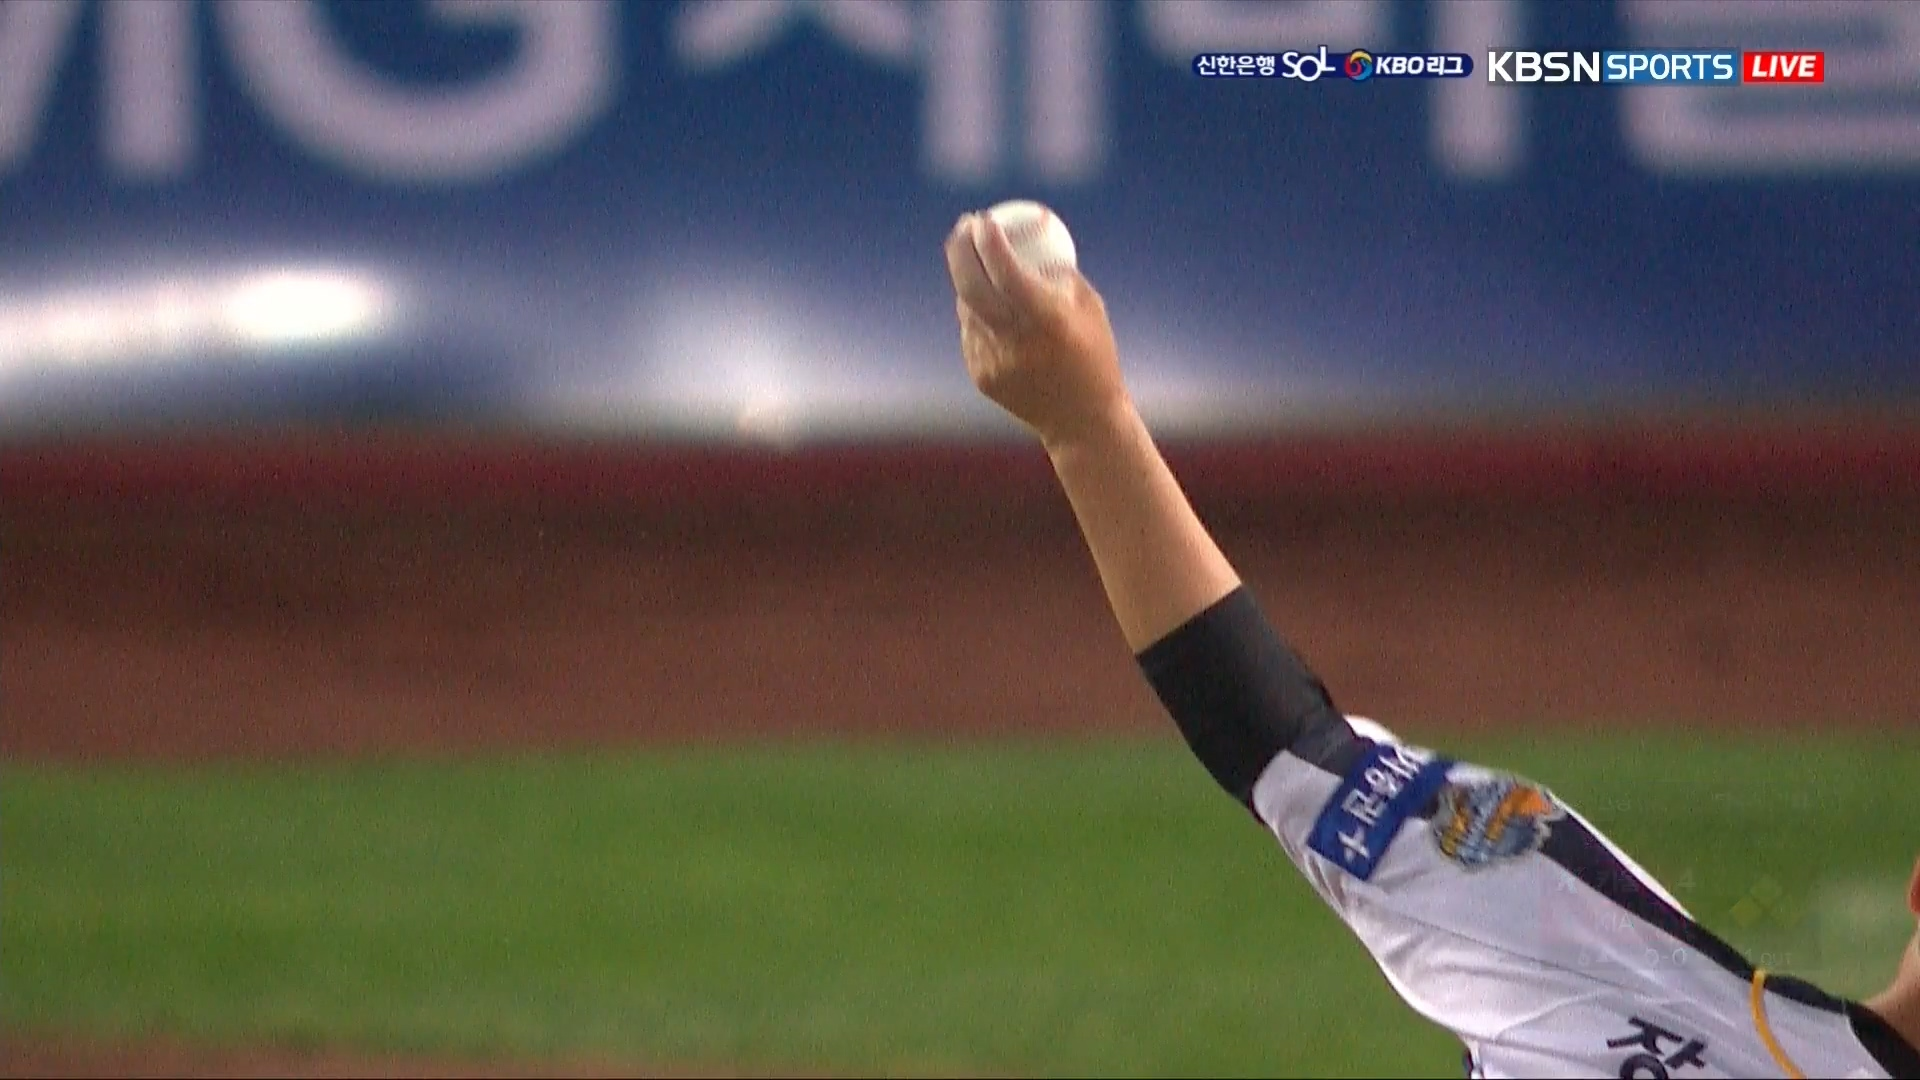zoomin_hand: (931, 177, 1317, 808)
